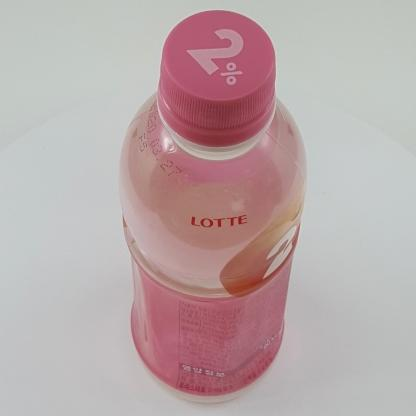--2_---350ML: (118, 9, 308, 404)
